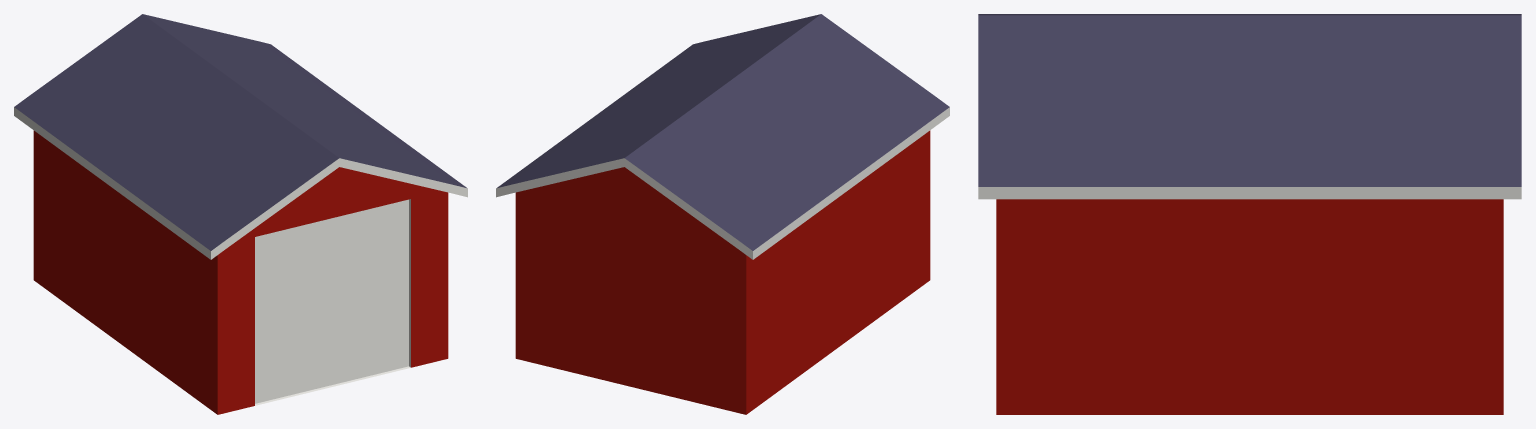
The model's file is Farmi_TyökaluVarasto.fbx.
3 views of the same model, side by side, from view 1: azimuth 30°, elevation 25°; view 2: azimuth 150°, elevation 25°; view 3: azimuth 270°, elevation 25° (orthographic). The views are drawn at different scales.
Visible parts, largest first — view 1: TyökaluVarasto; view 2: TyökaluVarasto; view 3: TyökaluVarasto.
Part boxes in pixels (x1,y1,x2,y2): TyökaluVarasto: [14, 14, 467, 414]; TyökaluVarasto: [496, 14, 949, 414]; TyökaluVarasto: [978, 14, 1521, 414].
Bounding box in the file's own units: 286 × 248 × 379.
